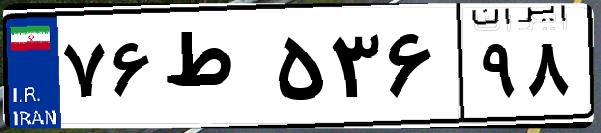3: (330, 28, 385, 110)
5: (270, 28, 330, 110)
6: (385, 28, 445, 110), (110, 28, 158, 98)
7: (57, 26, 110, 100)
8: (525, 38, 570, 115)
9: (475, 38, 525, 113)
ط: (158, 20, 270, 120)
